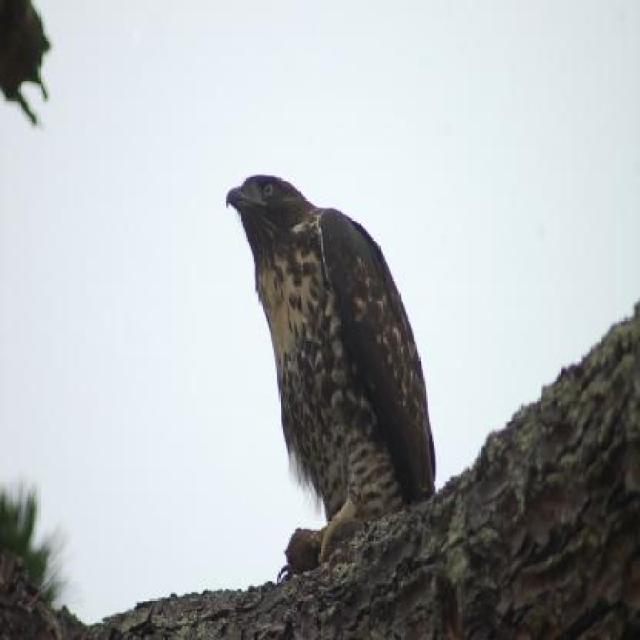Eagle: (220, 166, 436, 576)
